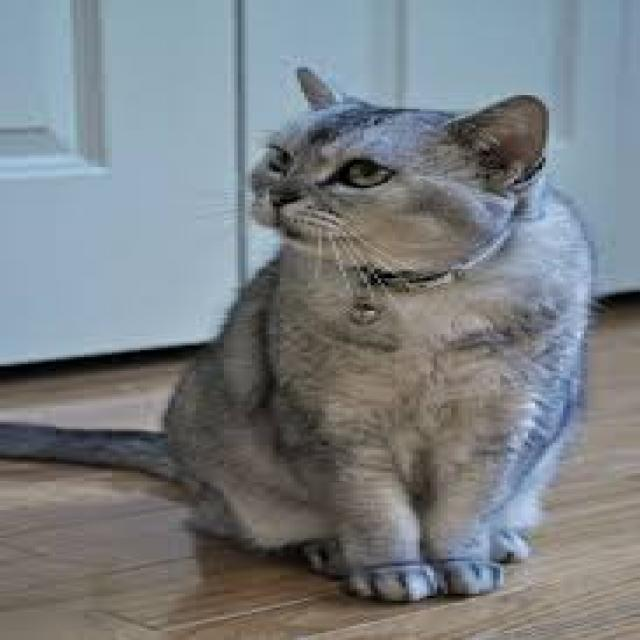cat-face: (182, 59, 622, 336)
